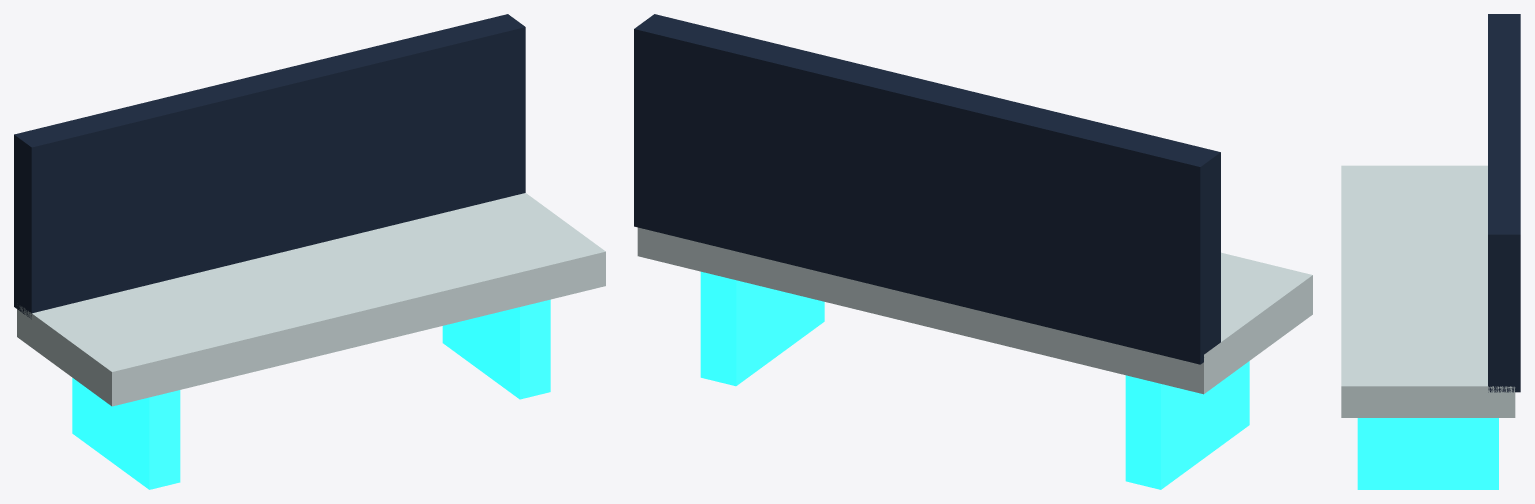
The model's file is PROP_bench_scene_20261005.glb.
3 renders of one model, left to right at view 1: azimuth 30°, elevation 25°; view 2: azimuth 150°, elevation 25°; view 3: azimuth 270°, elevation 25°, orthographic. The views are drawn at different scales.
Visible parts, largest first — view 1: PROP_BenchBack, PROP_BenchSeat, PROP_BenchLeg, PROP_BenchLeg.001; view 2: PROP_BenchBack, PROP_BenchSeat, PROP_BenchLeg, PROP_BenchLeg.001; view 3: PROP_BenchSeat, PROP_BenchBack, PROP_BenchLeg.001.
Part boxes in pixels (box(x1,y1,x2,y2)): PROP_BenchBack: box(14, 14, 525, 319); PROP_BenchSeat: box(17, 193, 605, 406); PROP_BenchLeg: box(72, 378, 180, 489); PROP_BenchLeg.001: box(442, 299, 550, 399); PROP_BenchBack: box(634, 14, 1220, 364); PROP_BenchSeat: box(637, 227, 1312, 394); PROP_BenchLeg: box(1125, 361, 1249, 489); PROP_BenchLeg.001: box(700, 271, 824, 386); PROP_BenchSeat: box(1341, 165, 1515, 417); PROP_BenchBack: box(1488, 14, 1520, 392); PROP_BenchLeg.001: box(1357, 418, 1498, 489).
Size of the model in its own units: 2.4 by 1.4 by 0.825.
